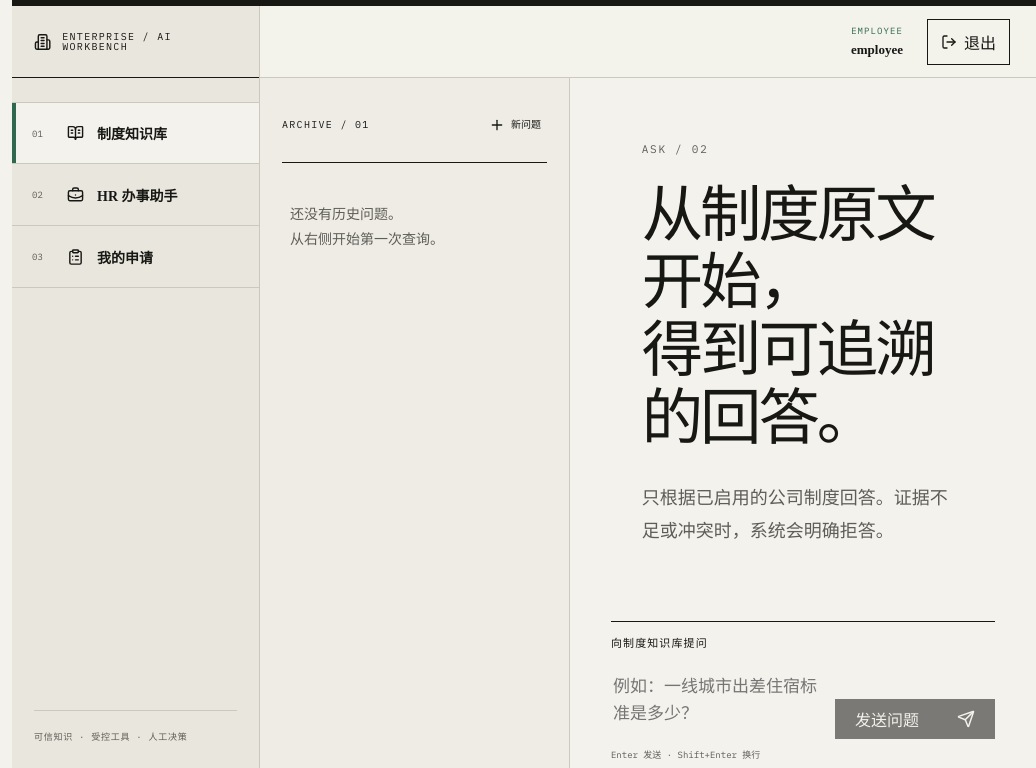
Test case: authentication shell › restores an existing session and logs out
Expected: the text "employee" is shown, [851,42,903,58]
What coordinates should you click on to do the following:
click the button "退出"
I would click on:
 (968, 42)
Its box is [927,18,1010,64].
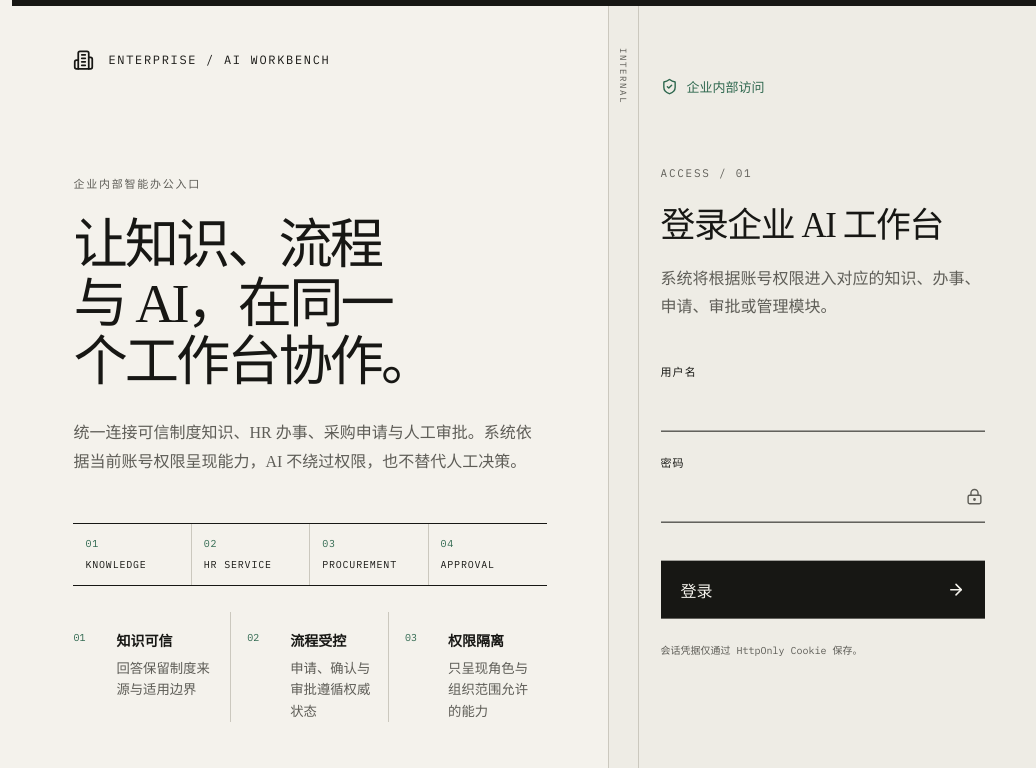
Result: the heading "登录企业 AI 工作台" is shown at [660,197,985,247]
